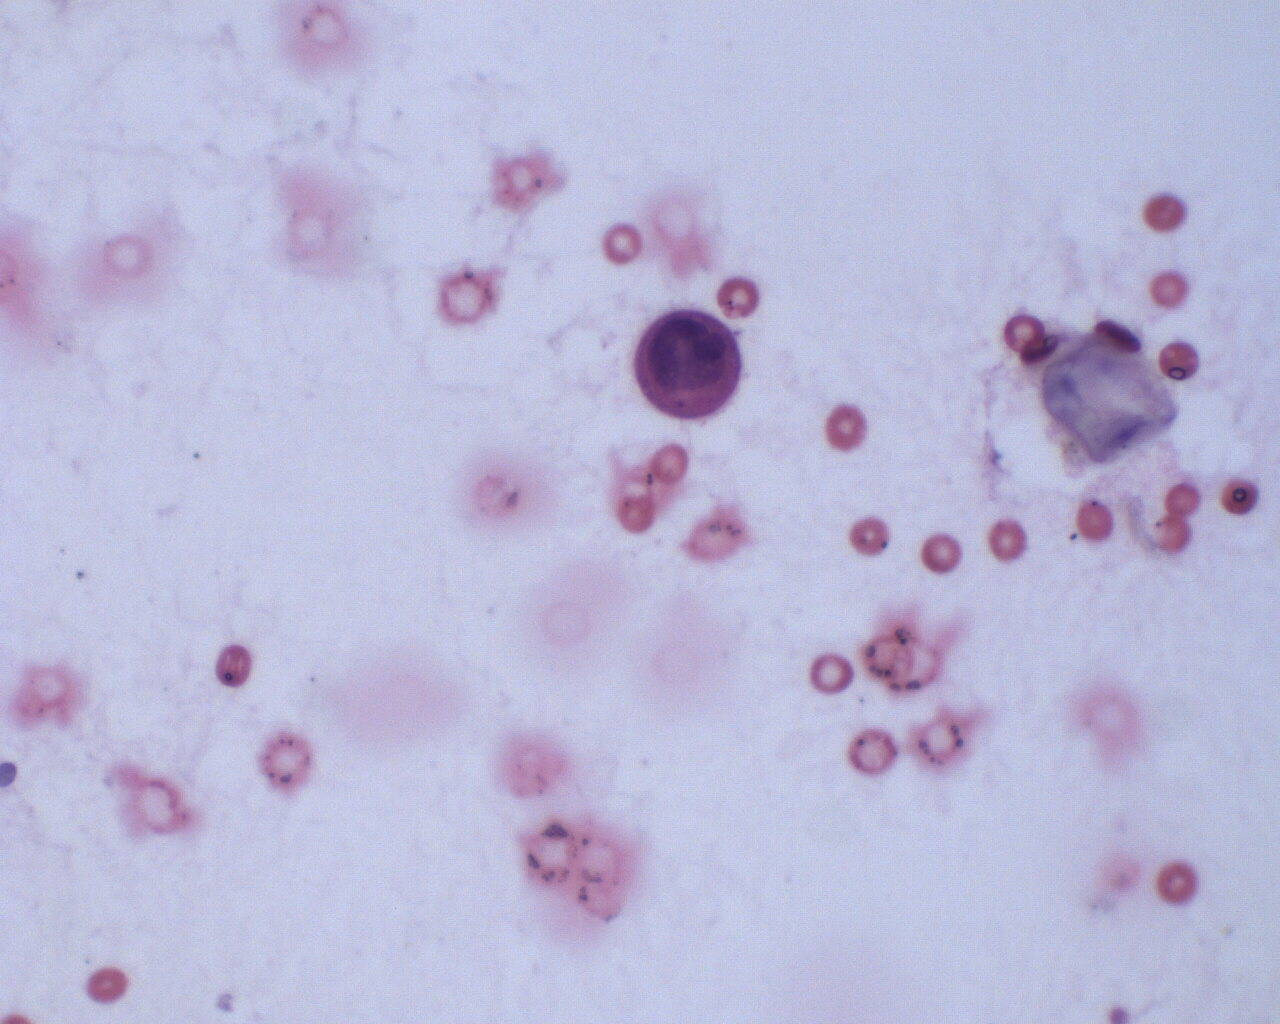ab: (626, 307, 748, 426)
